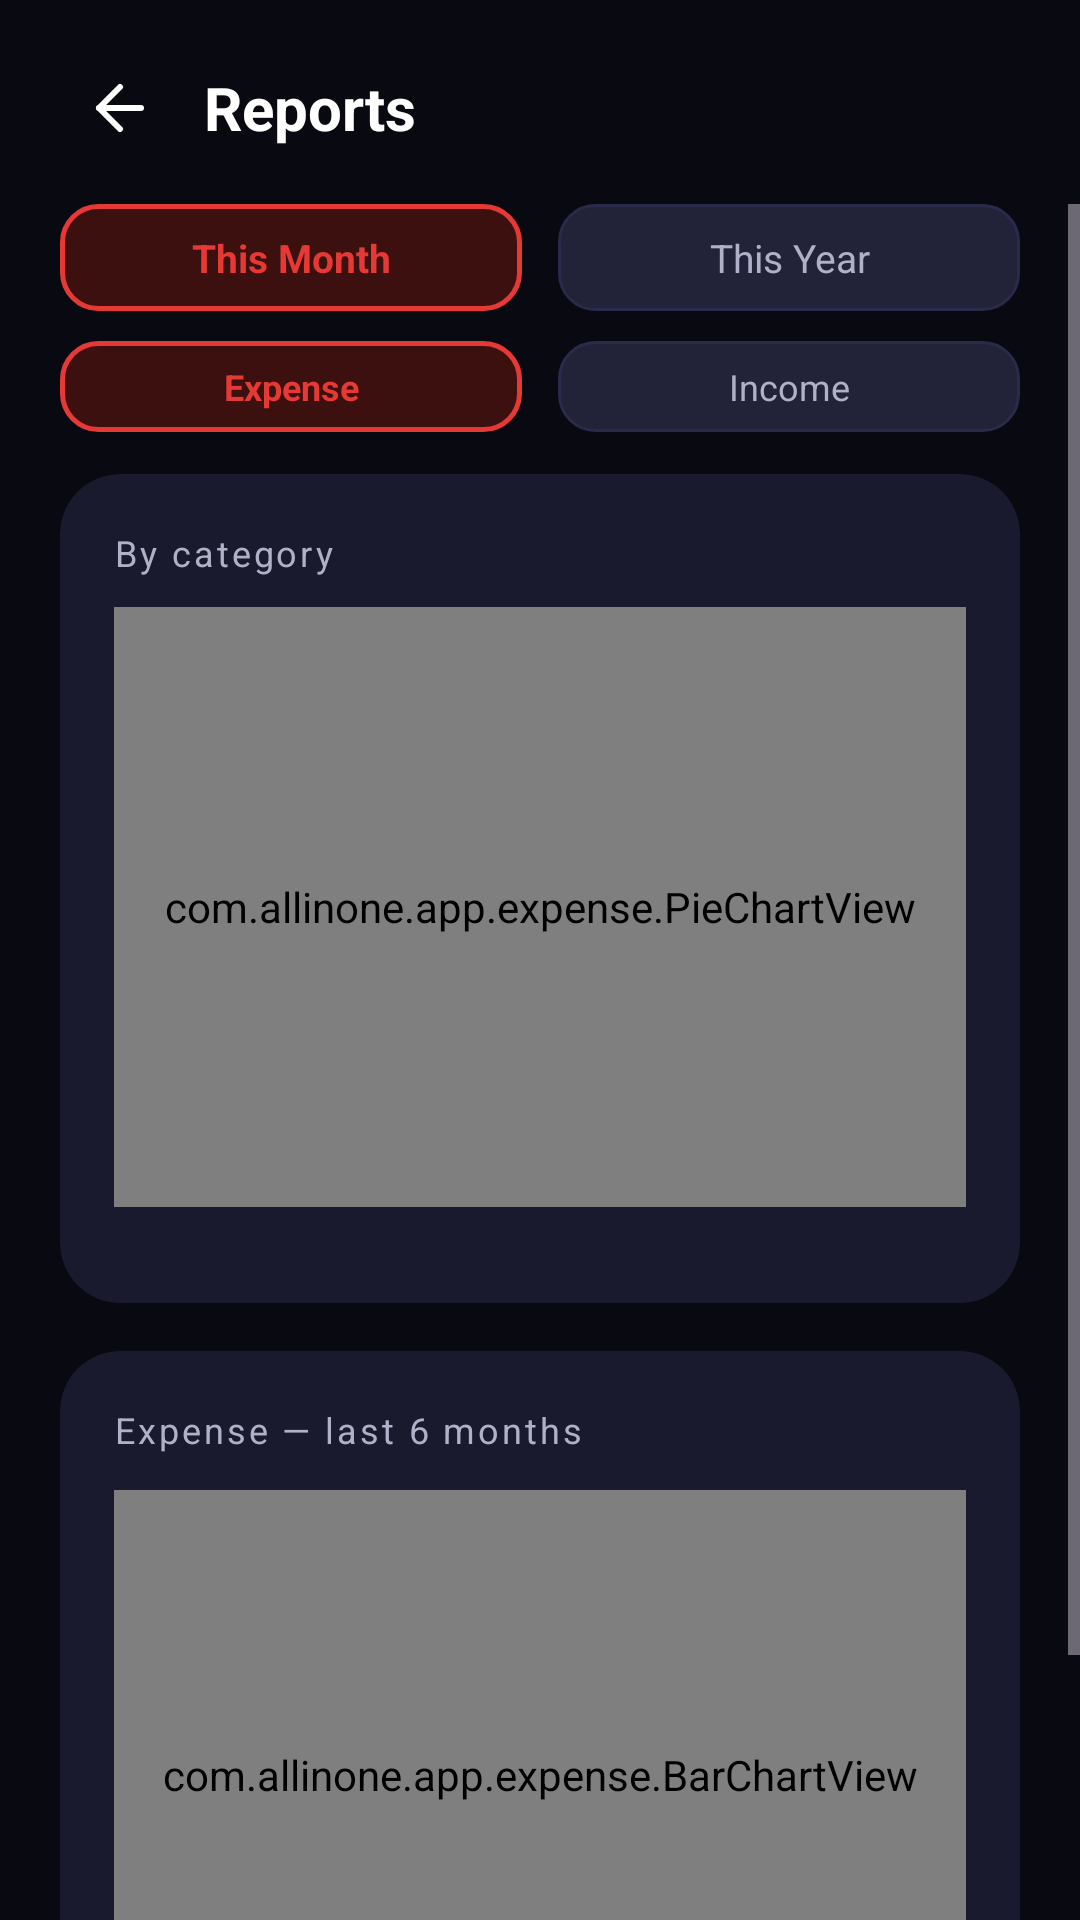

Icon click points for this 1080 × 1920 phone screenshot, format (x=x, y=y):
arrow back: (x=120, y=108)
